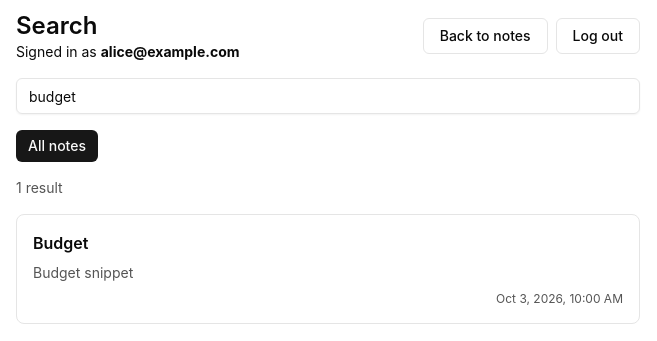
debounced search box › Blank input sends no request
The image size is (657, 341).
Check: the link "Budget" is shown, box [33, 233, 88, 253]
Clear the search field named "Search notes" at (328, 96), box [16, 78, 640, 114]
Wait 350 ms
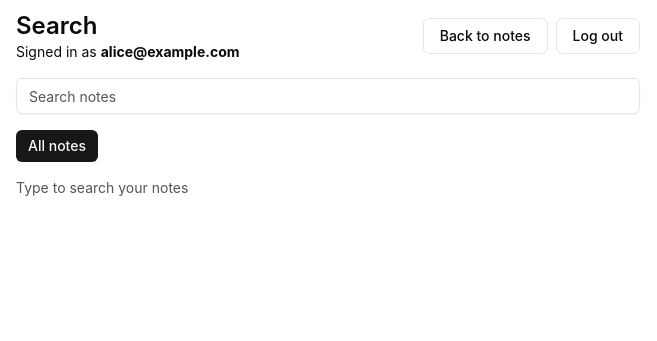
Check: the text "Type to search your notes" is shown, box [16, 179, 188, 196]
